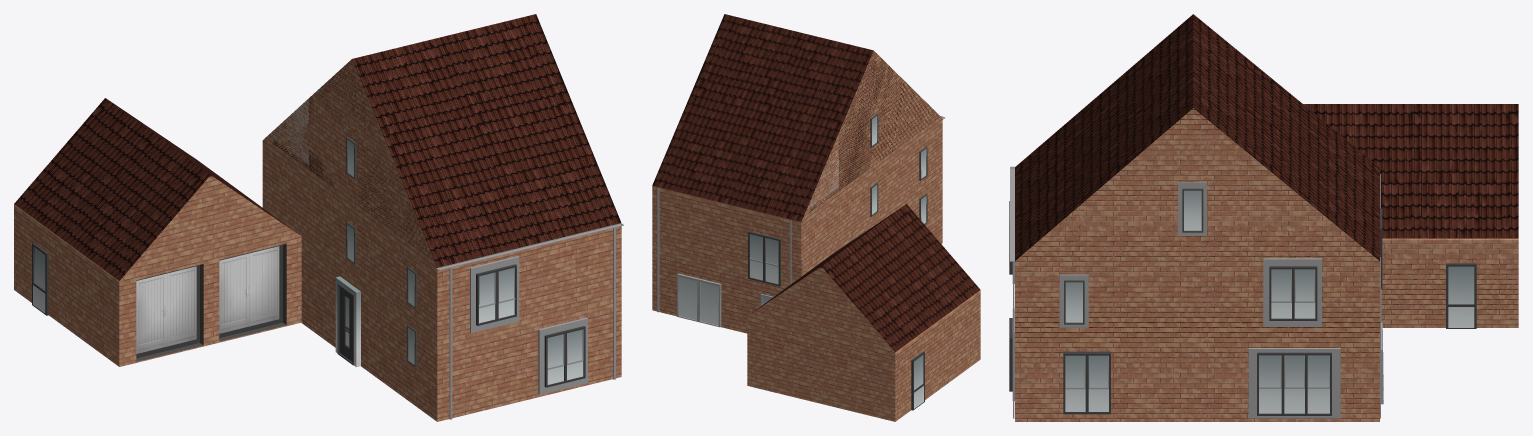
The model's file is Woning 39723 F1.fbx.
The picture shows the model from 3 angles, left to right: view 1: azimuth 30°, elevation 25°; view 2: azimuth 150°, elevation 25°; view 3: azimuth 270°, elevation 25°; orthographic projection. The views are drawn at different scales.
Visible parts, largest first — view 1: Woning_39723_F1; view 2: Woning_39723_F1; view 3: Woning_39723_F1.
Part boxes in pixels (left/top/right/bottom): Woning_39723_F1: left=14, top=14, right=623, bottom=421; Woning_39723_F1: left=652, top=14, right=980, bottom=421; Woning_39723_F1: left=1009, top=14, right=1518, bottom=421.
Bounding box in the file's own units: 1288 × 992 × 1456.
